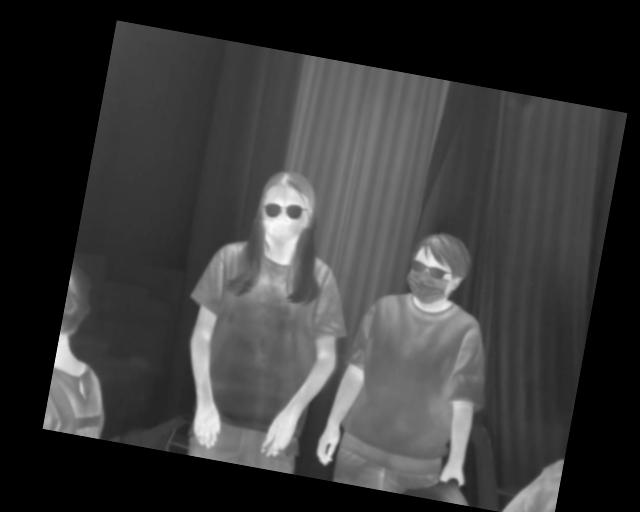face: (402, 228, 473, 311), (252, 166, 320, 248)
